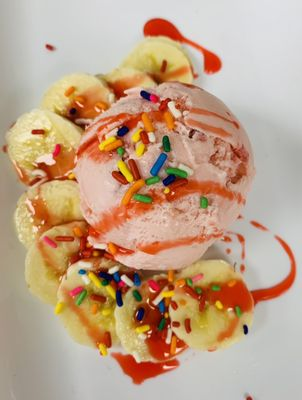soup: (72, 82, 256, 271)
